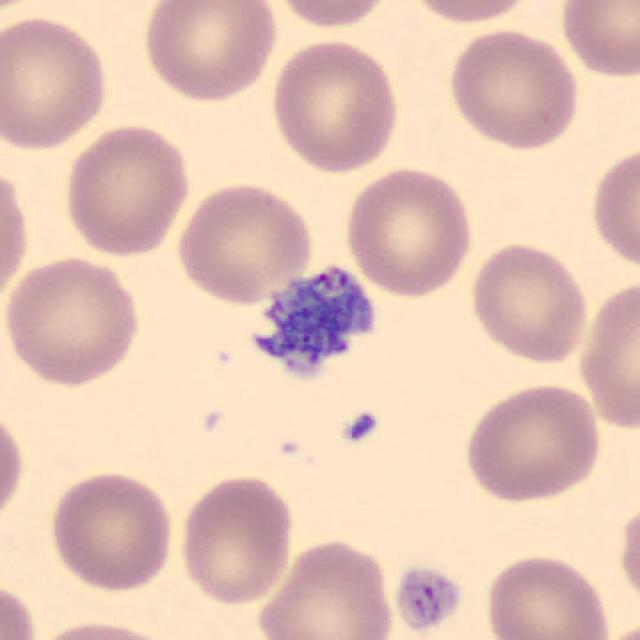Platelets: (237, 254, 391, 395), (389, 560, 466, 636), (340, 407, 382, 446)
RBC: (266, 35, 404, 175), (2, 252, 144, 388), (60, 120, 194, 259), (460, 379, 604, 506), (342, 164, 476, 300), (175, 178, 316, 307), (445, 25, 583, 152), (46, 467, 178, 594), (176, 471, 297, 608), (0, 10, 114, 154), (466, 238, 592, 367), (254, 534, 398, 640), (139, 0, 281, 104), (480, 550, 615, 640), (574, 273, 640, 434), (587, 140, 638, 274), (556, 0, 638, 81), (0, 159, 32, 317), (265, 0, 400, 32), (0, 402, 28, 534), (399, 0, 540, 26), (28, 617, 178, 640), (615, 496, 640, 614), (0, 578, 41, 640), (592, 617, 640, 640)
